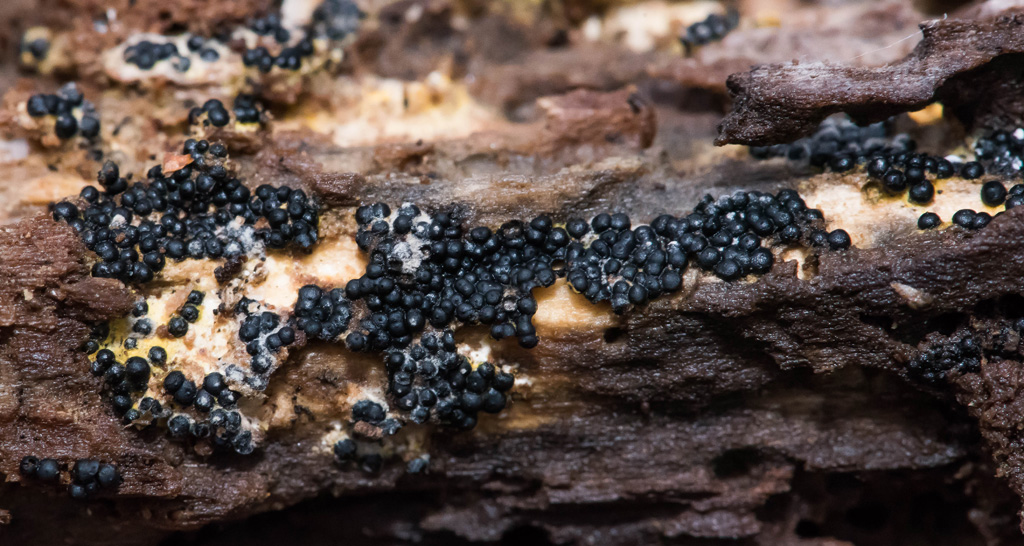pudricion radicular: (13, 92, 1019, 506)
